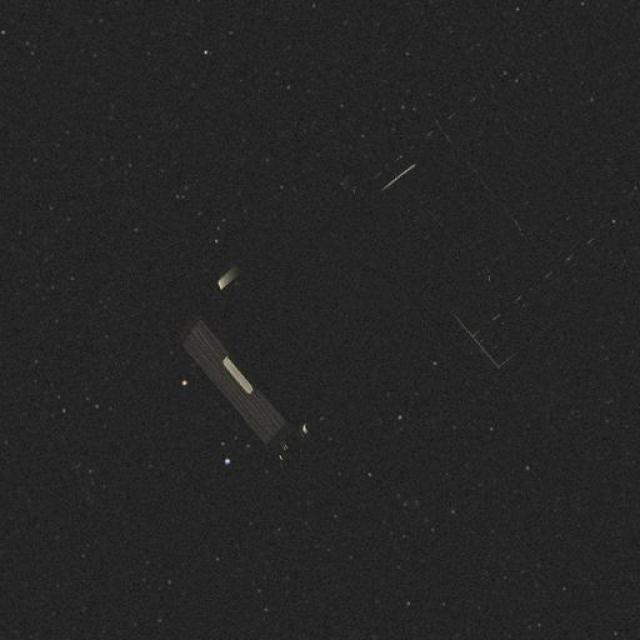proba_3_csc: (150, 128, 636, 470)
